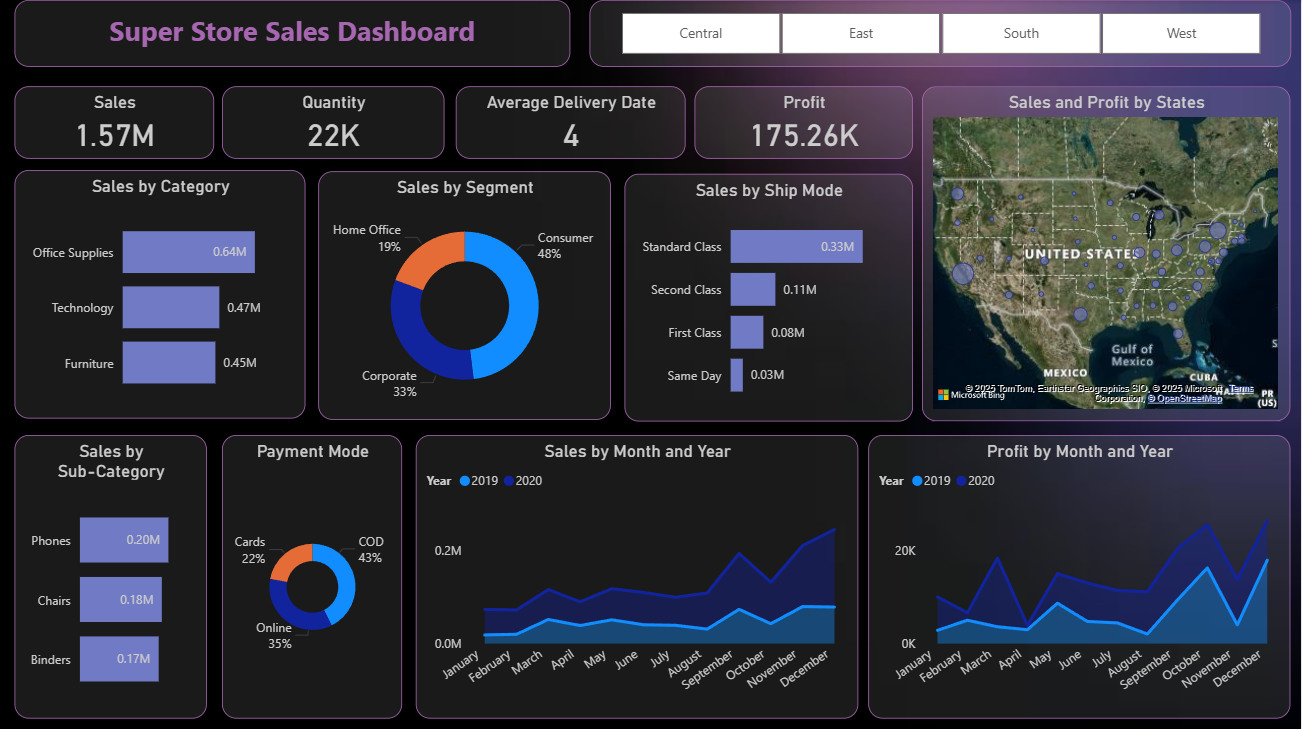

The dashboard page shown, as its layout file describes it:
{"tool":"powerbi","page":{"name":"Dashboard","canvas":[1280,720],"ordinal":0},"visuals":[{"type":"clusteredBarChart","title":"Sales by Category","fields":{"Category":["Sheet1.Category"],"Y":["Sum(Sheet1.Sales)"]},"box":[17.1,167.1,285.7,244.3],"z":0},{"type":"clusteredBarChart","title":"Sales by Sub-Category","fields":{"Category":["Sheet1.Sub-Category"],"Y":["Sum(Sheet1.Sales)"]},"box":[17.1,427.1,188.6,278.6],"z":1000},{"type":"clusteredBarChart","title":"Sales by Ship Mode","fields":{"Category":["Sheet1.Ship Mode"],"Y":["Sum(Sheet1.Sales)"]},"box":[615.7,170,282.9,242.9],"z":2000},{"type":"stackedAreaChart","title":"Sales by Month and Year","fields":{"Y":["Sum(Sheet1.Sales)"],"Category":["Sheet1.Order Date.Variation.Date Hierarchy.Month","Sheet1.Order Date.Variation.Date Hierarchy.Day"],"Series":["Sheet1.Order Date.Variation.Date Hierarchy.Year"]},"box":[411.4,427.1,434.3,278.6],"z":3000},{"type":"stackedAreaChart","title":"Profit by Month and Year","fields":{"Category":["Sheet1.Order Date.Variation.Date Hierarchy.Month","Sheet1.Order Date.Variation.Date Hierarchy.Day"],"Series":["Sheet1.Order Date.Variation.Date Hierarchy.Year"],"Y":["Sum(Sheet1.Profit)"]},"box":[855.7,427.1,414.3,278.6],"z":4000},{"type":"map","title":"Sales and Profit by States","fields":{"Category":["Sheet1.State"],"Size":["Sum(Sheet1.Sales)"]},"box":[908.6,84.3,361.4,328.6],"z":5000},{"type":"donutChart","title":"Sales by Segment","fields":{"Category":["Sheet1.Segment"],"Y":["Sum(Sheet1.Sales)"]},"box":[315.7,168.6,287.1,244.3],"z":6000},{"type":"donutChart","title":"Payment Mode","fields":{"Category":["Sheet1.Payment Mode"],"Y":["Sum(Sheet1.Sales)"]},"box":[221.4,427.1,177.1,278.6],"z":7000},{"type":"slicer","fields":{"Values":["Sheet1.Region"]},"box":[581.4,0,688.6,65.7],"z":8000},{"type":"textbox","box":[17.1,0,545.7,65.7],"z":9000},{"type":"card","title":"Sales","fields":{"Values":["Sum(Sheet1.Sales)"]},"box":[17.1,84.3,195.7,71.4],"z":10000},{"type":"card","title":"Quantity","fields":{"Values":["Sum(Sheet1.Quantity)"]},"box":[221.4,84.3,218.6,71.4],"z":11000},{"type":"card","title":"Profit","fields":{"Values":["Sum(Sheet1.Profit)"]},"box":[684.3,84.3,214.3,71.4],"z":12000},{"type":"card","title":"Average Delivery Date","fields":{"Values":["Avg(Sheet1.AvgDelivery)"]},"box":[450,84.3,225.7,71.4],"z":13000}]}

Visuals, with their boxes in screenshot pixels (x1, y1, x2, y2), scaled from the page's 1280x720 canvas onto the 1302x729 screenshot:
"Sales by Category" clusteredBarChart: [x1=17, y1=169, x2=308, y2=417]
"Sales by Sub-Category" clusteredBarChart: [x1=17, y1=432, x2=209, y2=715]
"Sales by Ship Mode" clusteredBarChart: [x1=626, y1=172, x2=914, y2=418]
"Sales by Month and Year" stackedAreaChart: [x1=418, y1=432, x2=860, y2=715]
"Profit by Month and Year" stackedAreaChart: [x1=870, y1=432, x2=1292, y2=715]
"Sales and Profit by States" map: [x1=924, y1=85, x2=1292, y2=418]
"Sales by Segment" donutChart: [x1=321, y1=171, x2=613, y2=418]
"Payment Mode" donutChart: [x1=225, y1=432, x2=405, y2=715]
slicer - Sheet1.Region: [x1=591, y1=0, x2=1292, y2=67]
textbox: [x1=17, y1=0, x2=572, y2=67]
"Sales" card: [x1=17, y1=85, x2=216, y2=158]
"Quantity" card: [x1=225, y1=85, x2=448, y2=158]
"Profit" card: [x1=696, y1=85, x2=914, y2=158]
"Average Delivery Date" card: [x1=458, y1=85, x2=687, y2=158]
